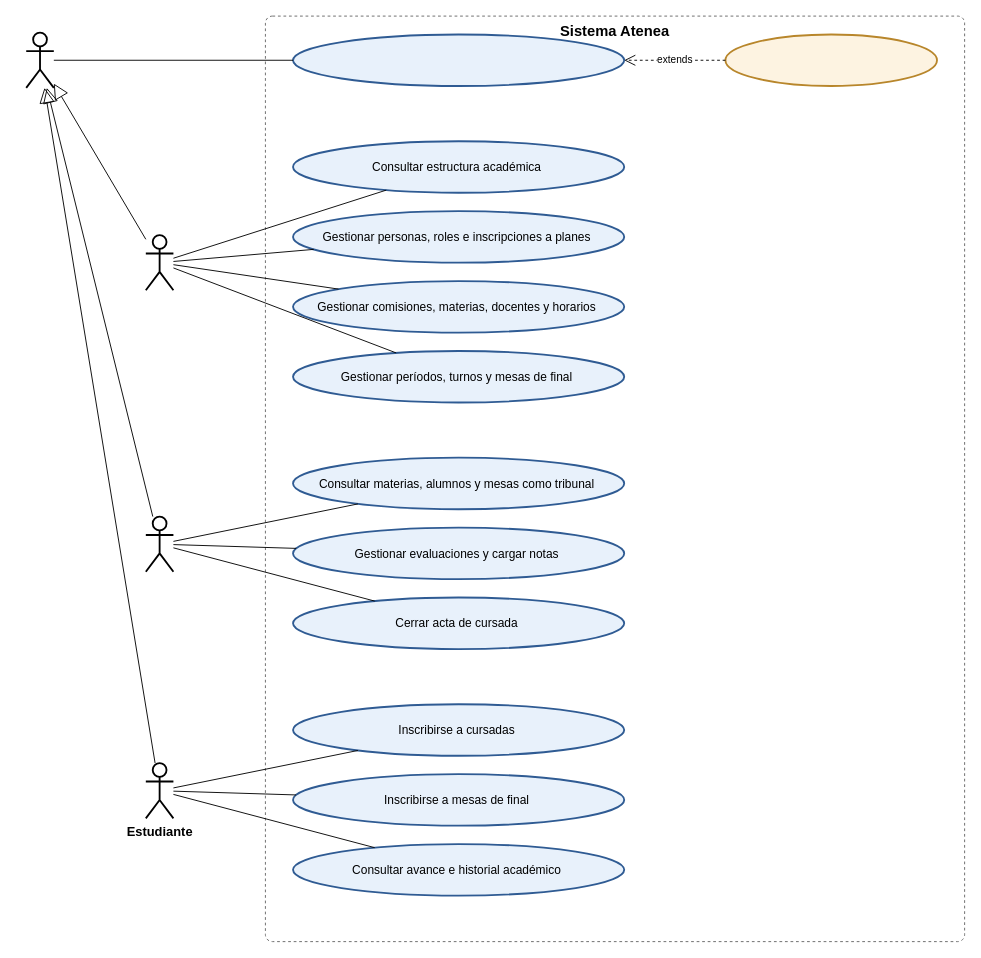
The diagram is 981 pixels wide and 958 high, and some of its shapes have lost their labels. The box of each missing label's shape, as (x1, y1, x2, y2) in pixels:
Administrador: (144, 234, 174, 291)
Autenticarse: iniciar, renovar y cerrar sesión: (292, 33, 625, 86)
Docente: (144, 515, 174, 572)
Seleccionar rol activo (más de un rol): (724, 33, 937, 86)
Usuario: (25, 31, 54, 88)
